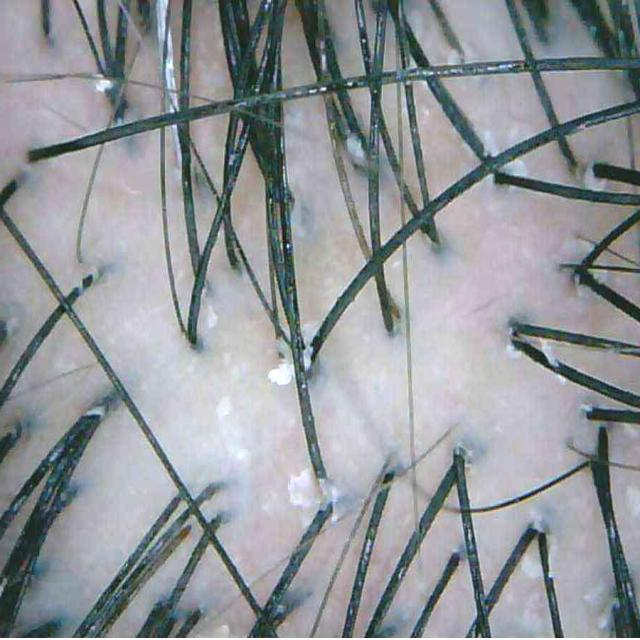d: (288, 467, 321, 508), (345, 133, 368, 170), (268, 360, 294, 386), (584, 161, 606, 190), (268, 362, 294, 385), (541, 339, 559, 366), (626, 485, 640, 518), (216, 396, 232, 421), (482, 130, 498, 154), (211, 623, 231, 639), (95, 78, 115, 93), (208, 305, 218, 329), (236, 448, 251, 462), (304, 346, 312, 371)
